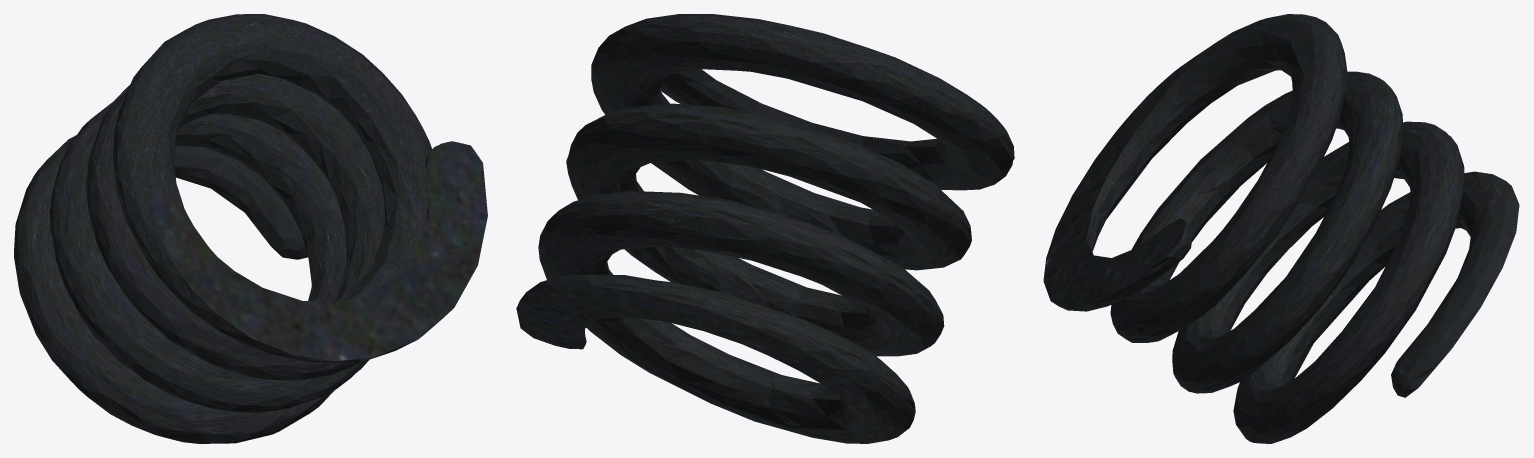
The model's file is Extractor_Spring.dae.
3 views of the same model, side by side, from view 1: azimuth 30°, elevation 25°; view 2: azimuth 150°, elevation 25°; view 3: azimuth 270°, elevation 25° (orthographic). The views are drawn at different scales.
Visible parts, largest first — view 1: Extractor_Spring; view 2: Extractor_Spring; view 3: Extractor_Spring.
Part boxes in pixels (x1,y1,x2,y2): Extractor_Spring: (14,14,487,443); Extractor_Spring: (516,14,1014,443); Extractor_Spring: (1043,14,1519,443).
Bounding box in the file's own units: 0.0041 × 0.00487 × 0.00437.
Materials: 1 (1 with a texture image).
